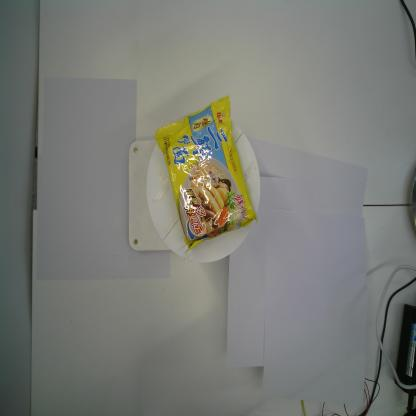Instant Noodles: (154, 94, 258, 255)
